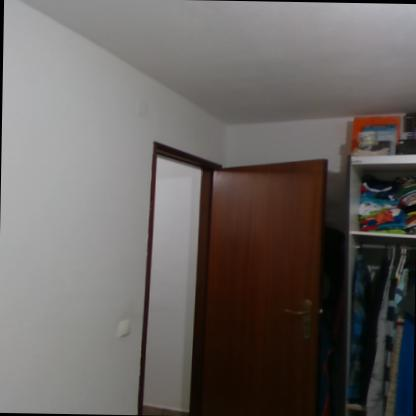open: (134, 128, 355, 415)
